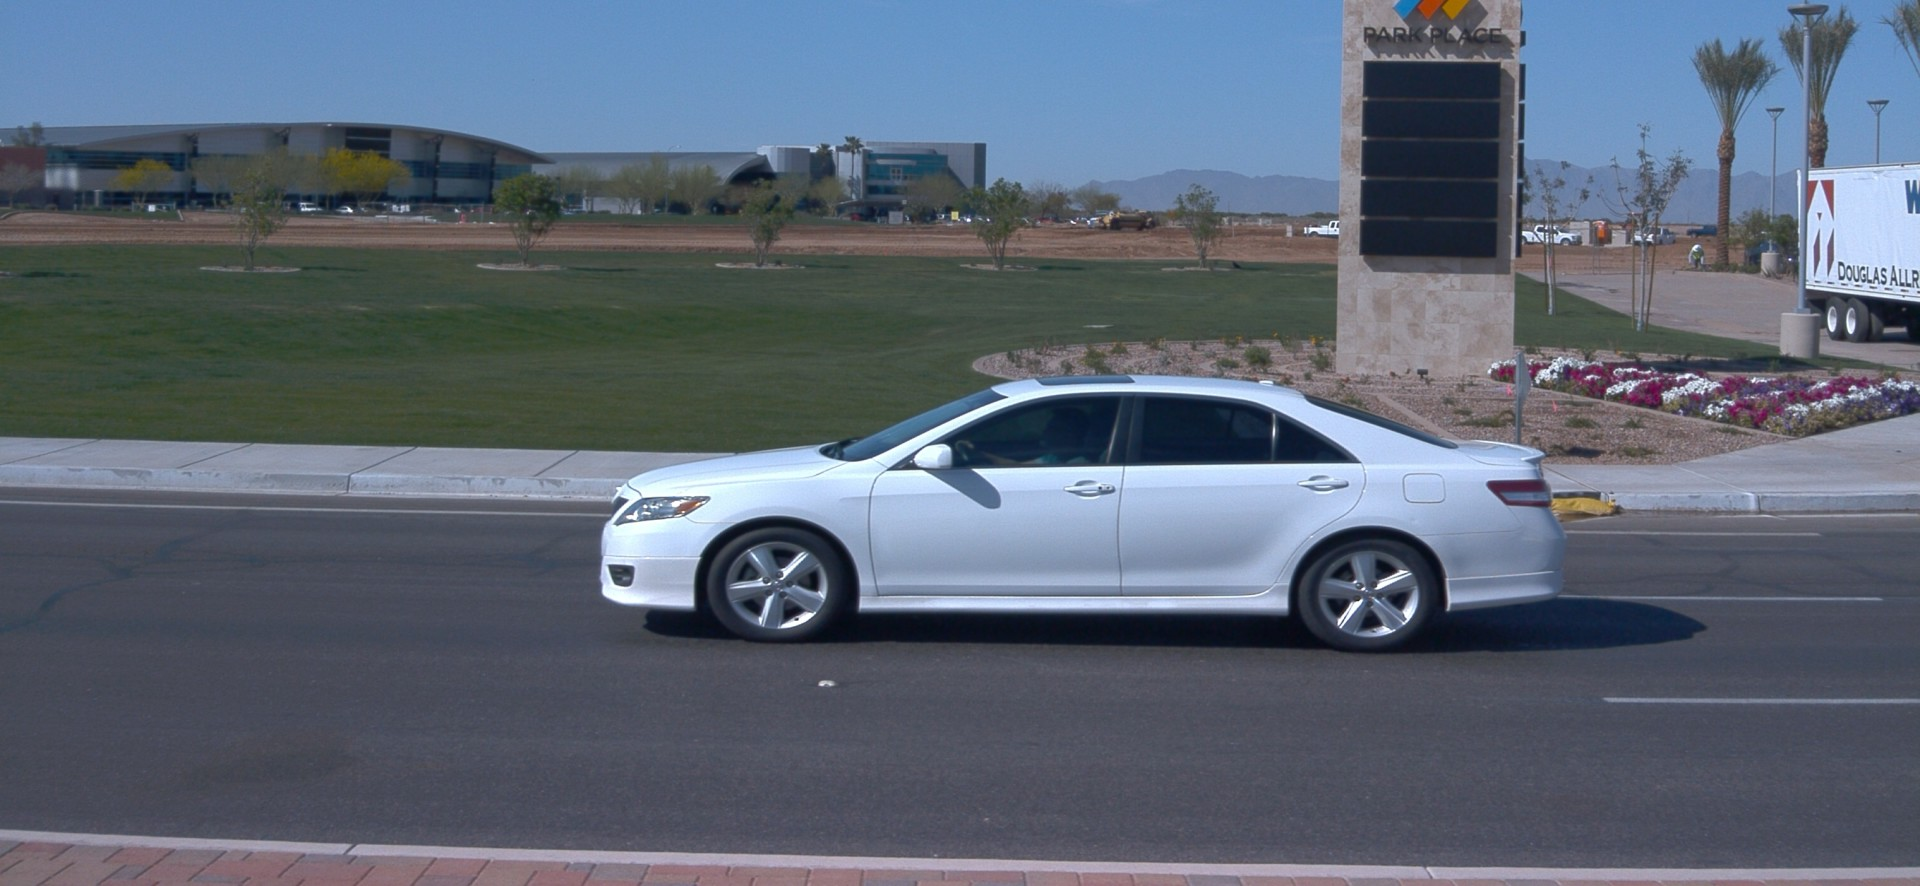TYPE_PEDESTRIAN: (1688, 241, 1705, 270)
TYPE_VEHICLE: (596, 375, 1570, 656), (1788, 161, 1920, 339), (1740, 232, 1798, 272), (1521, 224, 1584, 247), (1096, 208, 1156, 229), (1630, 230, 1675, 251), (1621, 214, 1656, 237), (1303, 220, 1340, 241), (1684, 227, 1717, 242), (1085, 212, 1108, 229), (298, 202, 322, 213), (332, 204, 352, 214), (383, 209, 405, 214), (1758, 231, 1772, 237), (525, 209, 536, 215)
